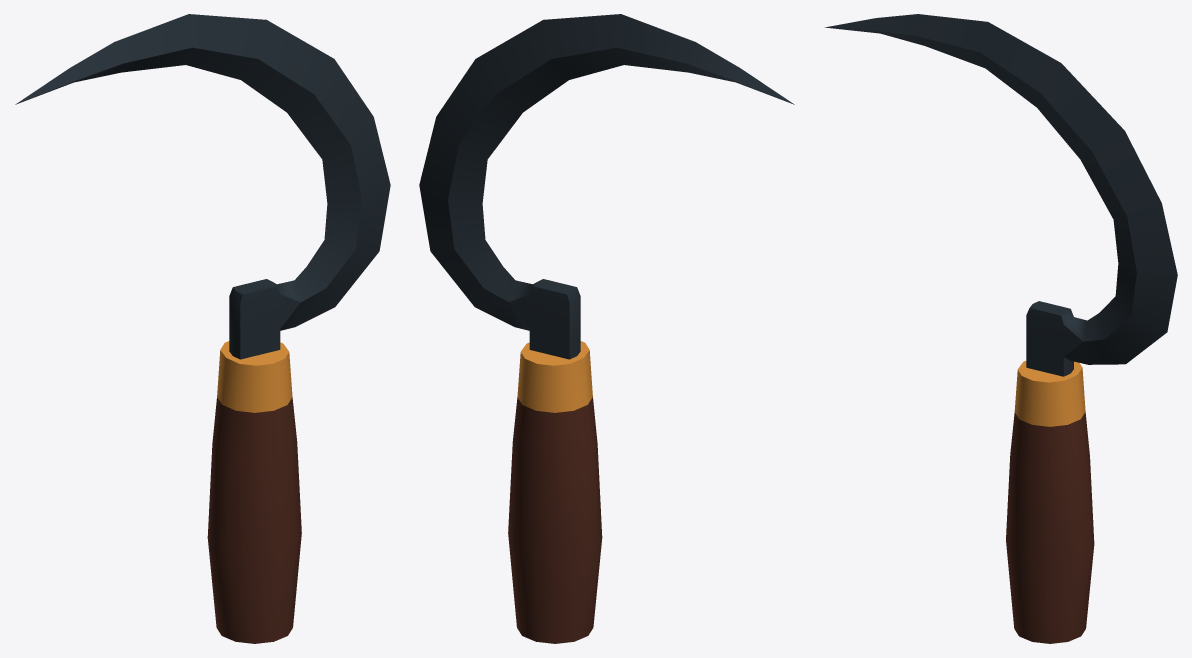
File: sickle.fbx
3 views of the same model, side by side, from view 1: azimuth 30°, elevation 25°; view 2: azimuth 150°, elevation 25°; view 3: azimuth 330°, elevation 25° (orthographic). The views are drawn at different scales.
Parts seen in each view (by area): view 1: sickle; view 2: sickle; view 3: sickle.
Boxes of the visible parts, x1,y1,x2,y2 form: sickle: (15, 14, 390, 643); sickle: (419, 14, 794, 643); sickle: (824, 14, 1177, 643).
Size of the model in its own units: 28.44 by 45.47 by 5.74.
